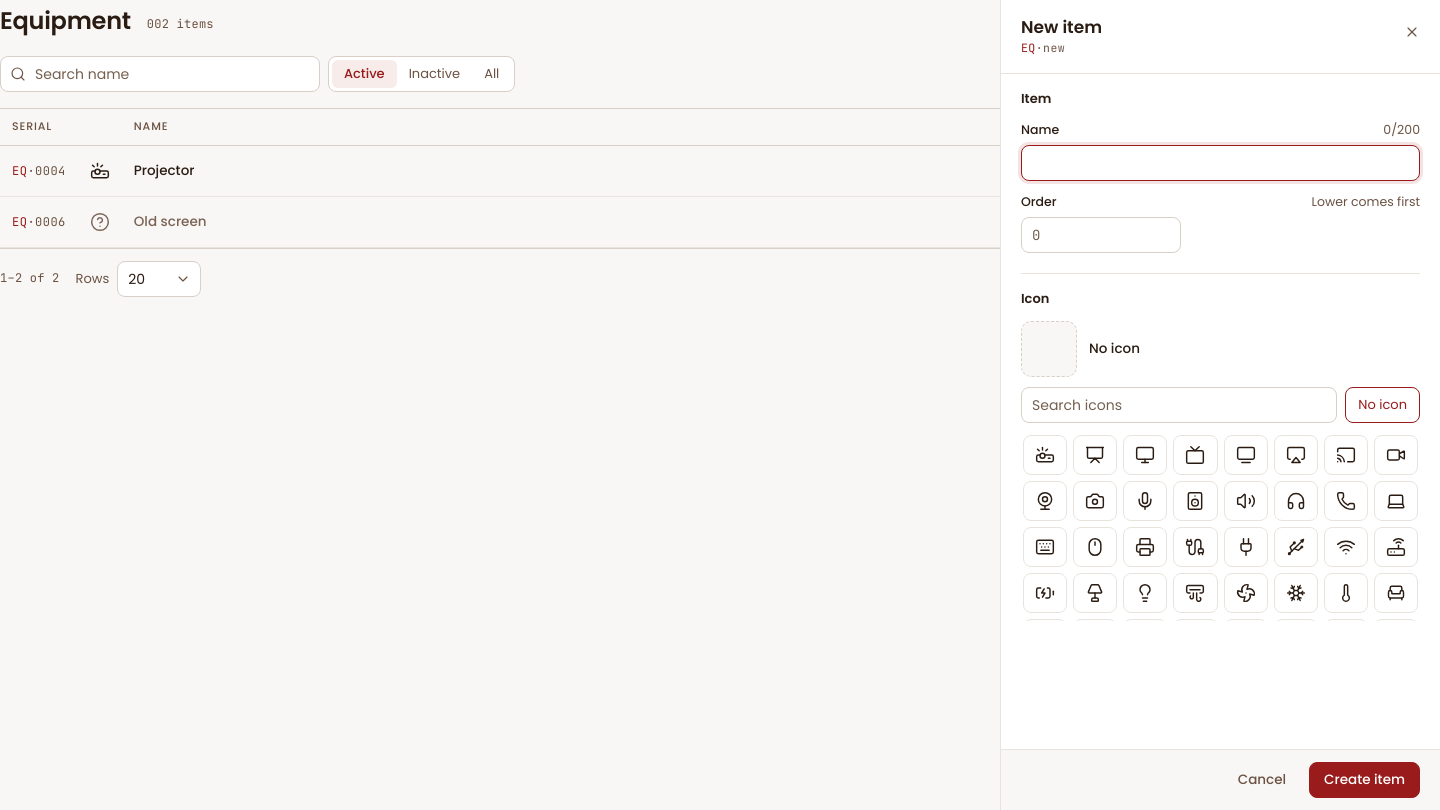
Scenario: EquipmentView › shows a duplicate name under Name
The image size is (1440, 810).
In the field with id "name": (1220, 163) [1021,145,1420,181], type "Projector"
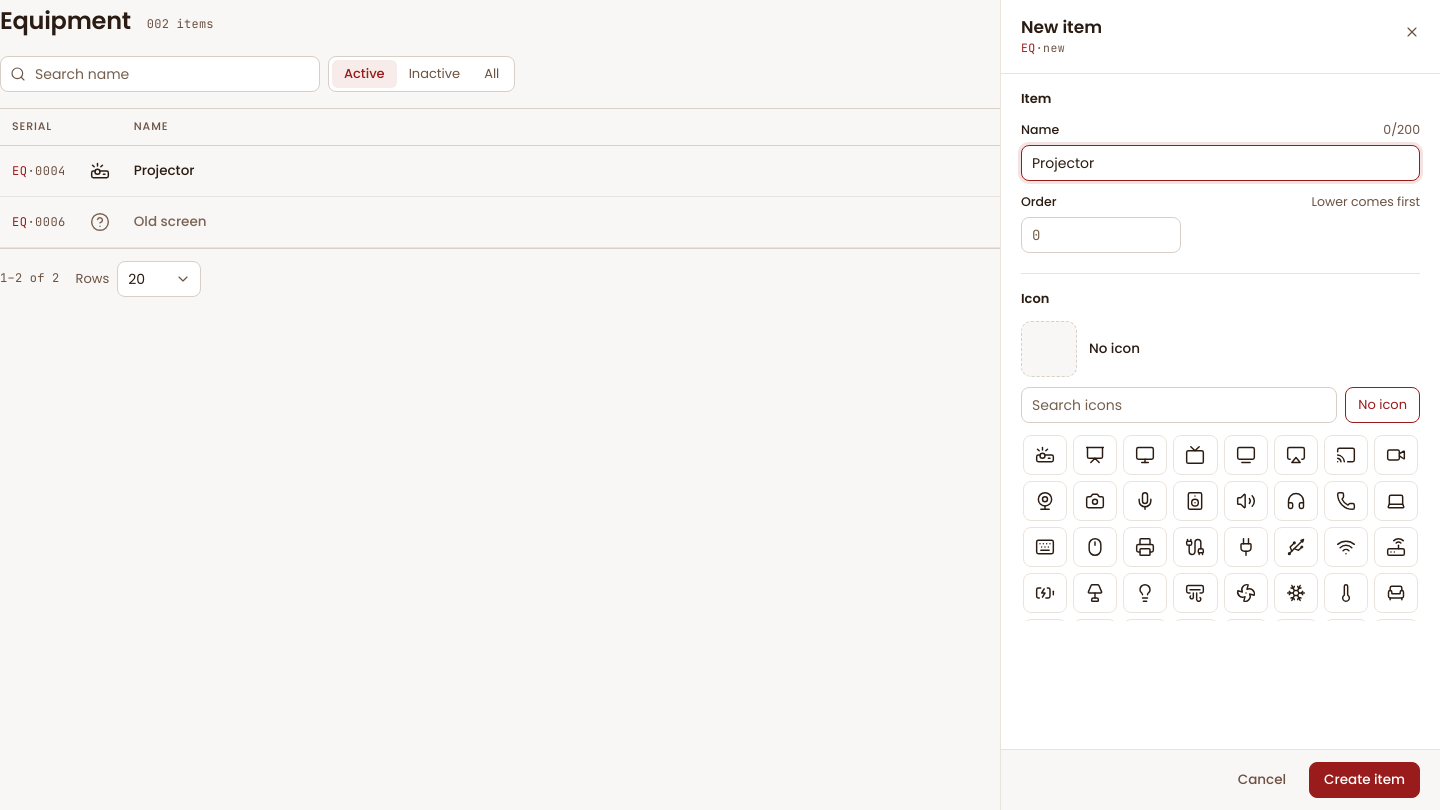
Submit the form, box [1021,90,1420,621]
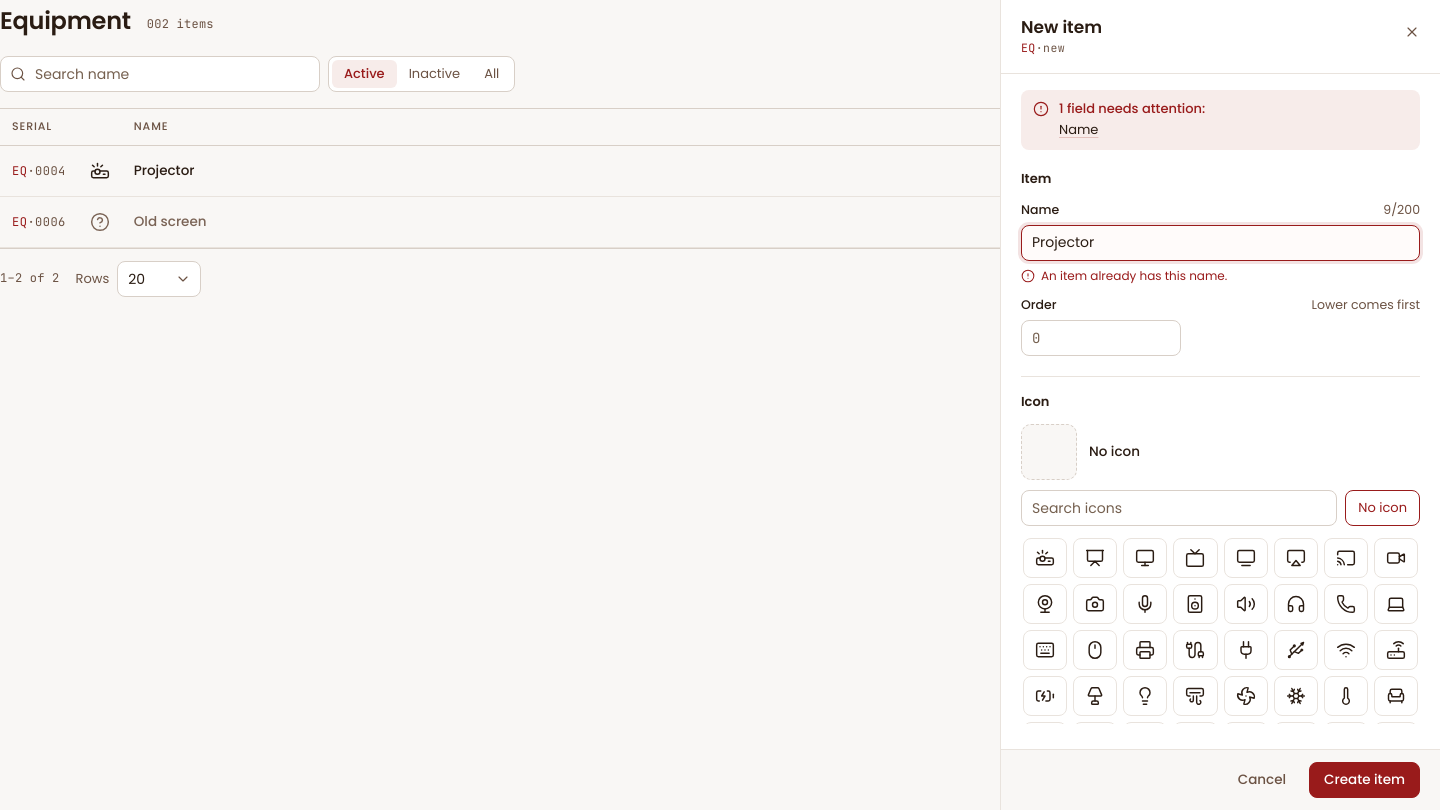
Expected: the element with id "name-error" reads "An item already has this name.", [1041,267,1227,284]
